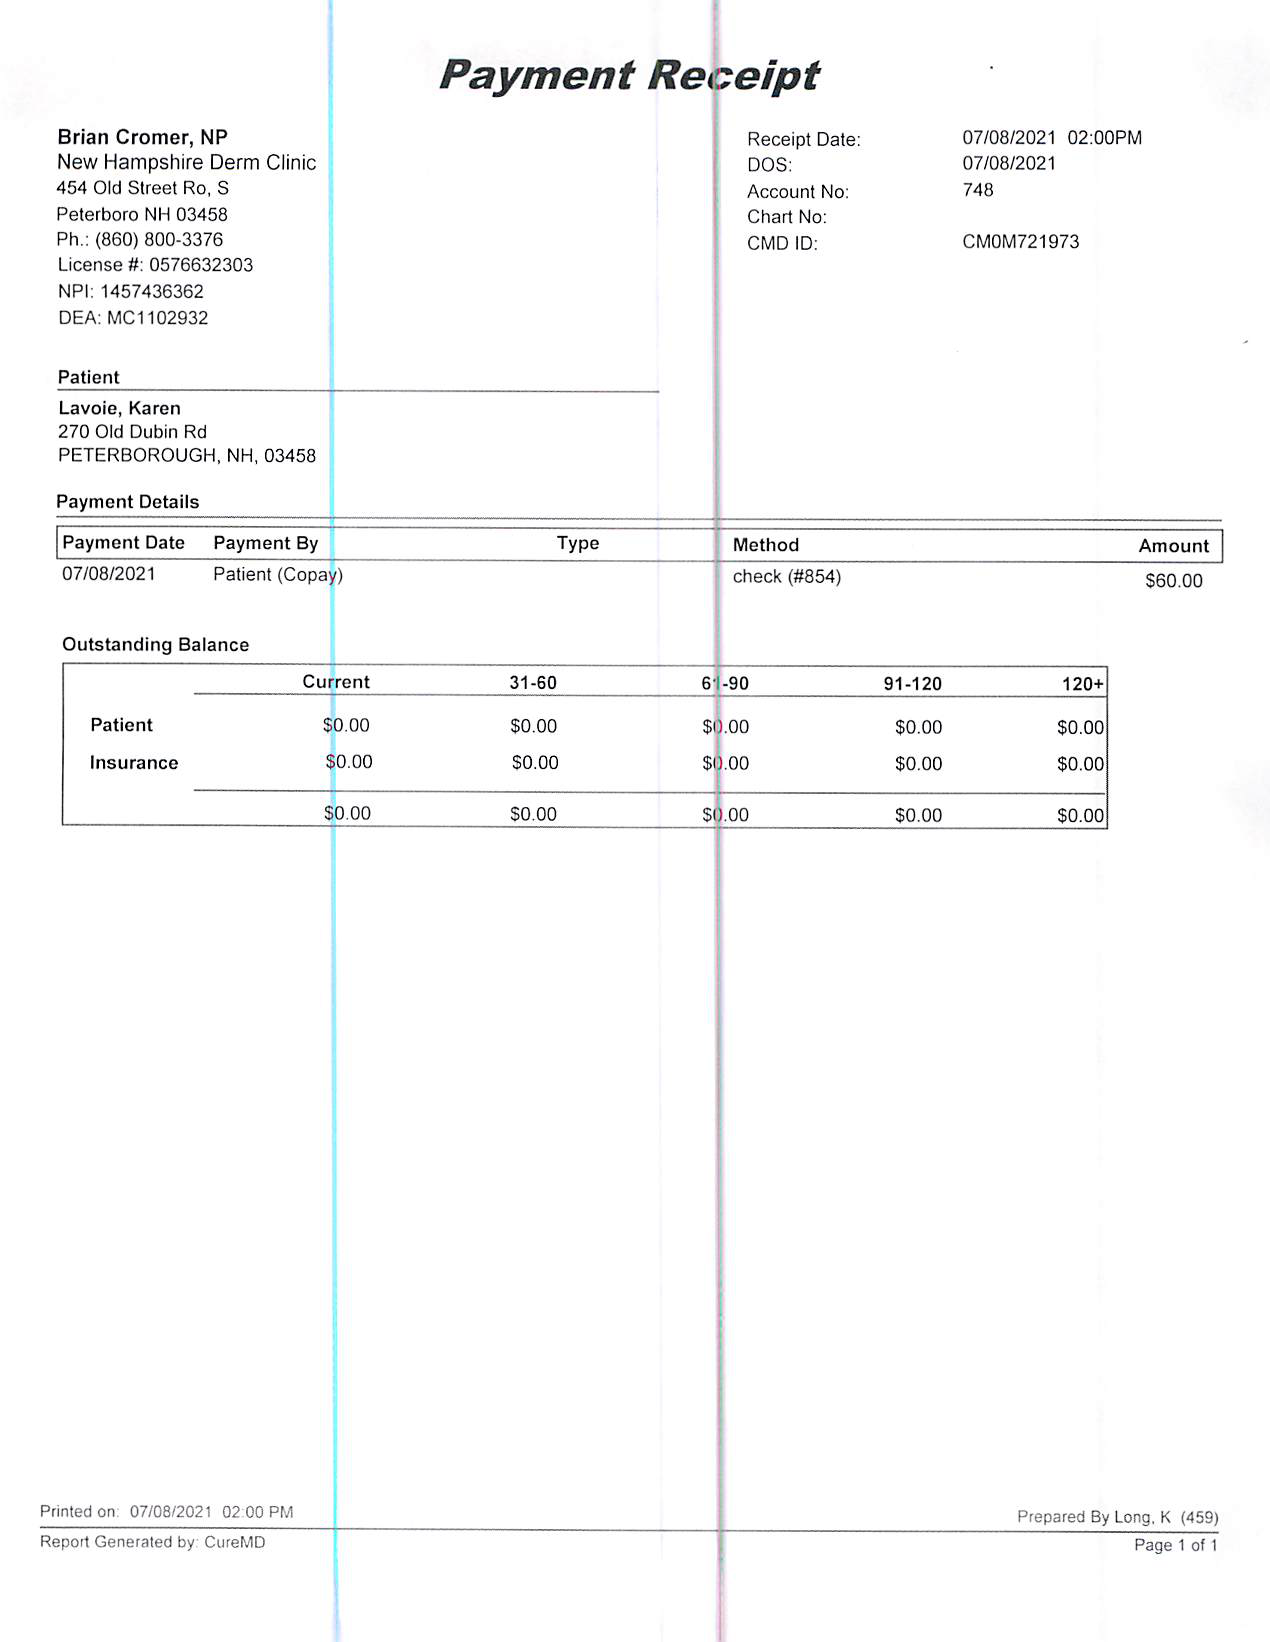data: (728, 119, 1167, 271), (53, 116, 328, 345)
table: (55, 654, 1121, 848), (52, 514, 1235, 594)
